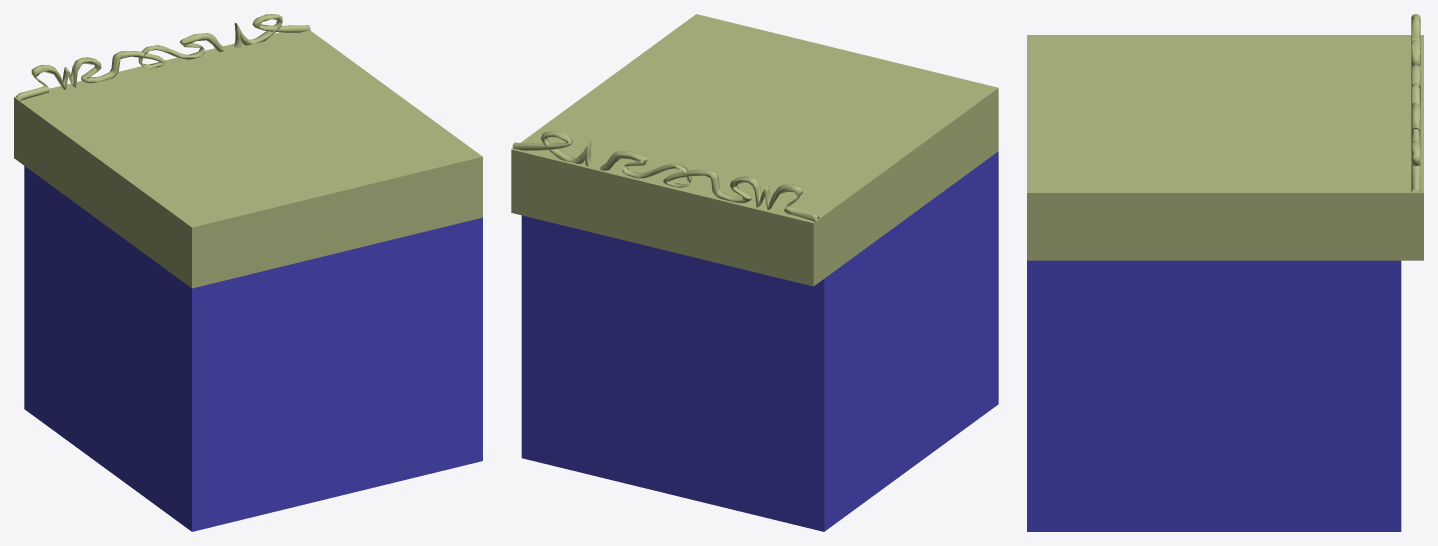
Rendered from MainBlock.fbx.
The picture shows the model from 3 angles, left to right: view 1: azimuth 30°, elevation 25°; view 2: azimuth 150°, elevation 25°; view 3: azimuth 270°, elevation 25°; orthographic projection. The views are drawn at different scales.
Visible parts, largest first — view 1: pCube18; view 2: pCube18; view 3: pCube18.
Boxes of the visible parts, x1=… form: pCube18: x1=14, y1=14, x2=482, y2=531; pCube18: x1=511, y1=14, x2=998, y2=531; pCube18: x1=1027, y1=14, x2=1423, y2=531.
Size of the model in its own units: 40.16 by 43.76 by 42.42.
